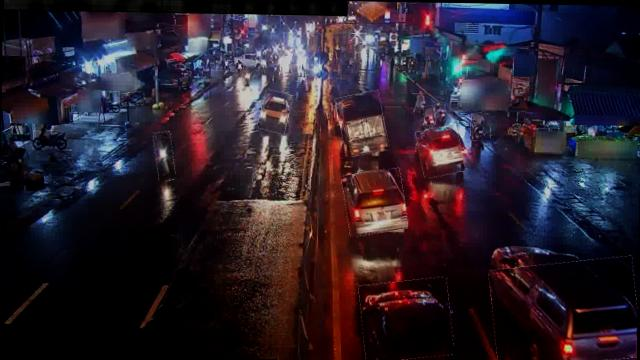Bike: (154, 131, 175, 180), (33, 130, 72, 151), (471, 113, 492, 141), (122, 92, 145, 106), (412, 93, 427, 114), (434, 103, 446, 124), (242, 66, 254, 87), (424, 106, 436, 126)
Car: (489, 256, 638, 360), (360, 277, 453, 360), (343, 168, 408, 236), (417, 125, 464, 177), (258, 90, 292, 132)
Truck: (338, 91, 388, 156)
